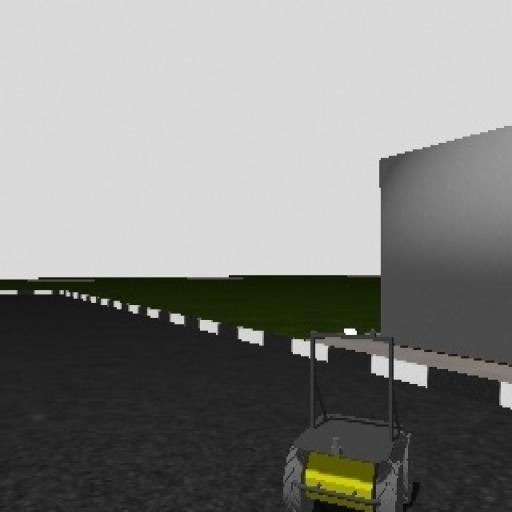huskya200: (264, 320, 416, 512)
